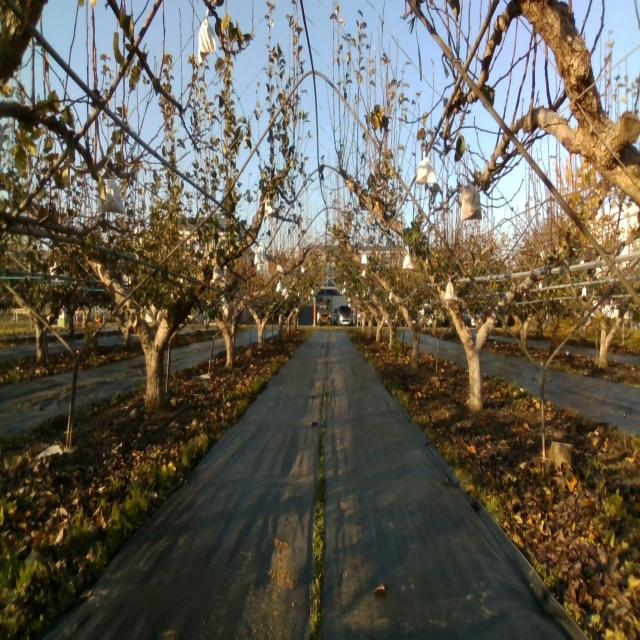pearbags: (96, 170, 128, 217), (197, 8, 218, 64), (462, 178, 482, 222), (416, 152, 435, 184), (211, 263, 227, 288), (254, 237, 268, 265), (444, 279, 459, 302), (403, 252, 417, 270)
